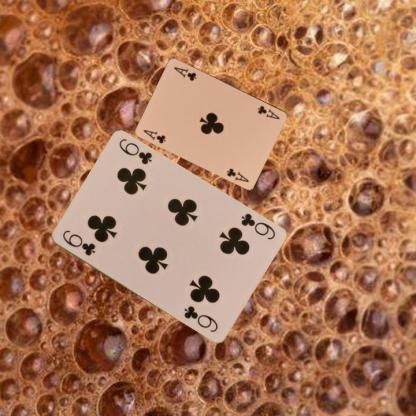6c: (238, 210, 276, 242), (60, 227, 96, 257)
Ac: (141, 127, 168, 145), (255, 103, 281, 121)
